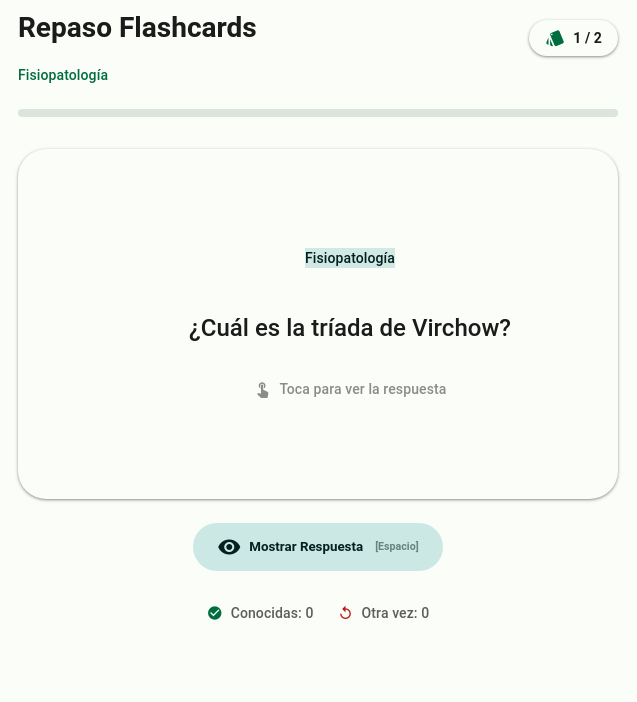
Test case: V2FlashcardStudy › moves to next card after rating
# Wait for and click flip button
Click the button "Mostrar Respuesta [Espacio]": (318,546) [193, 522, 443, 570]
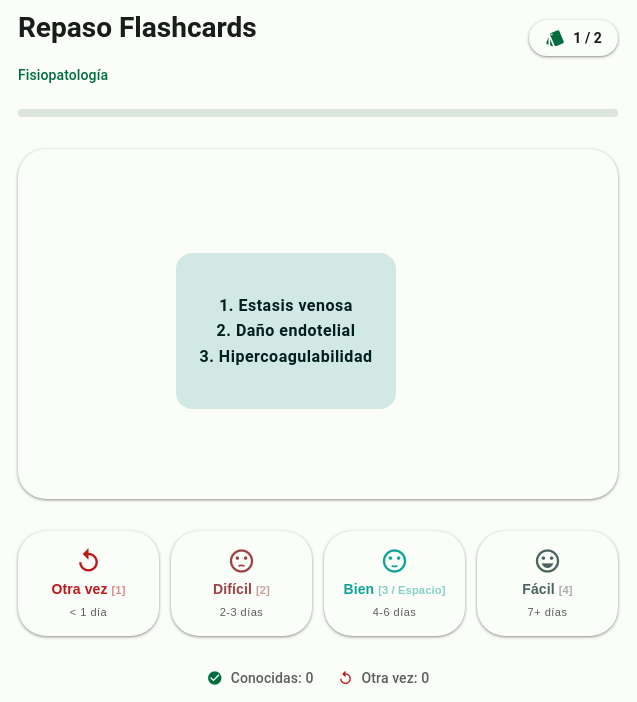
# Click the first rating button (Otra vez)
Click the text "Otra vez": (88,589) [52, 578, 126, 600]
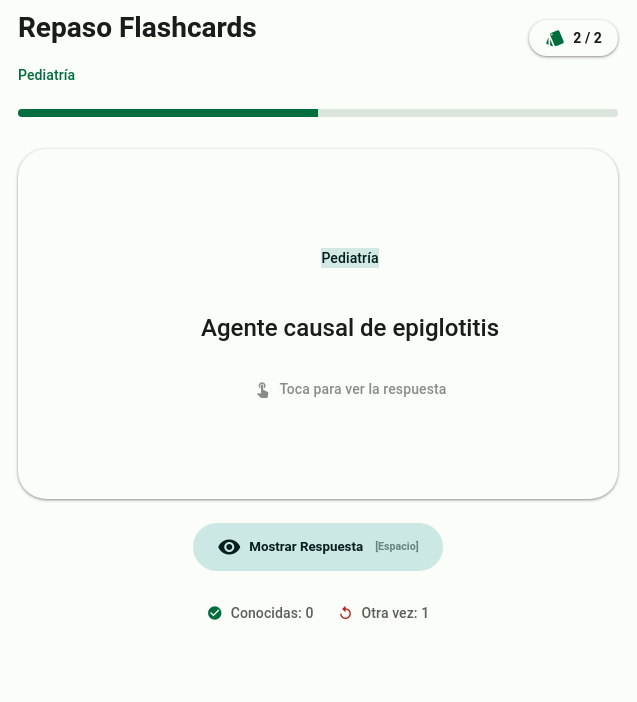
Expected: the text "2 / 2" is shown, [573, 28, 602, 48]
